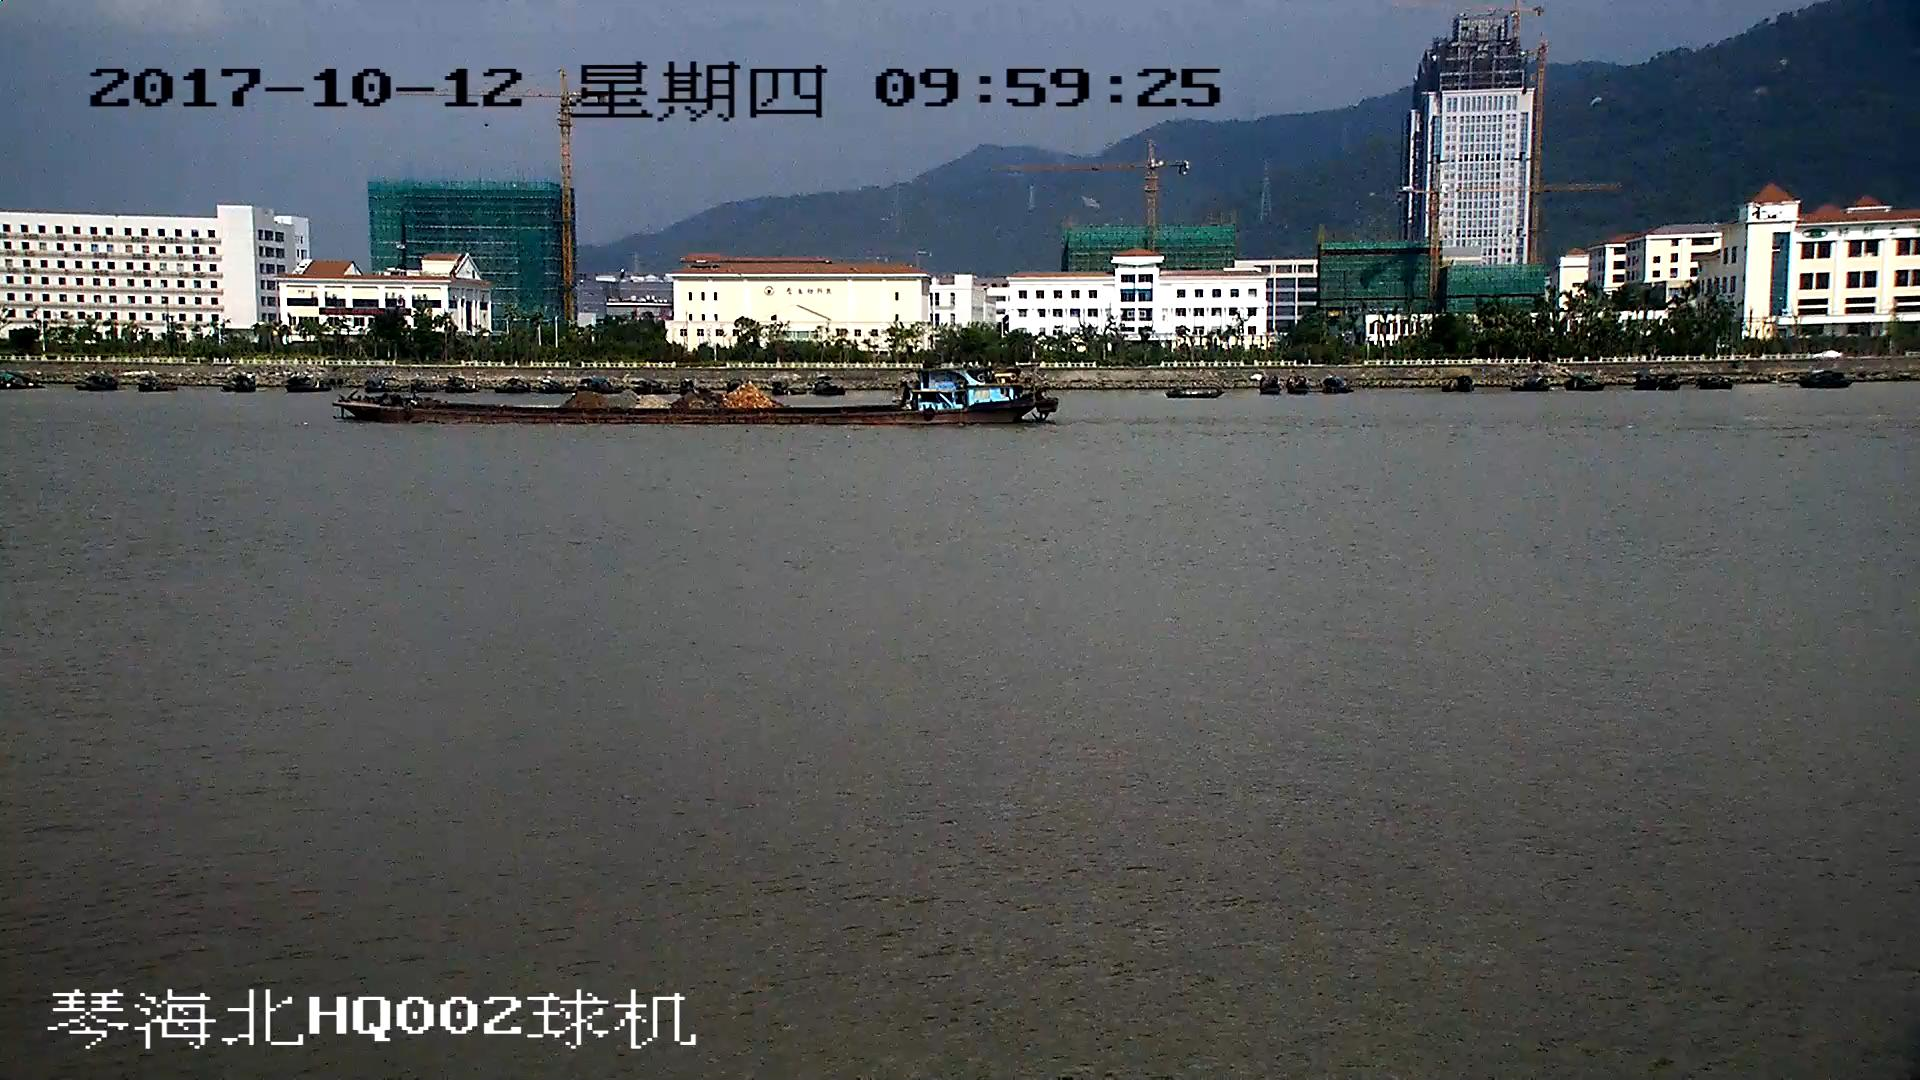ore carrier: (341, 361, 1055, 427)
